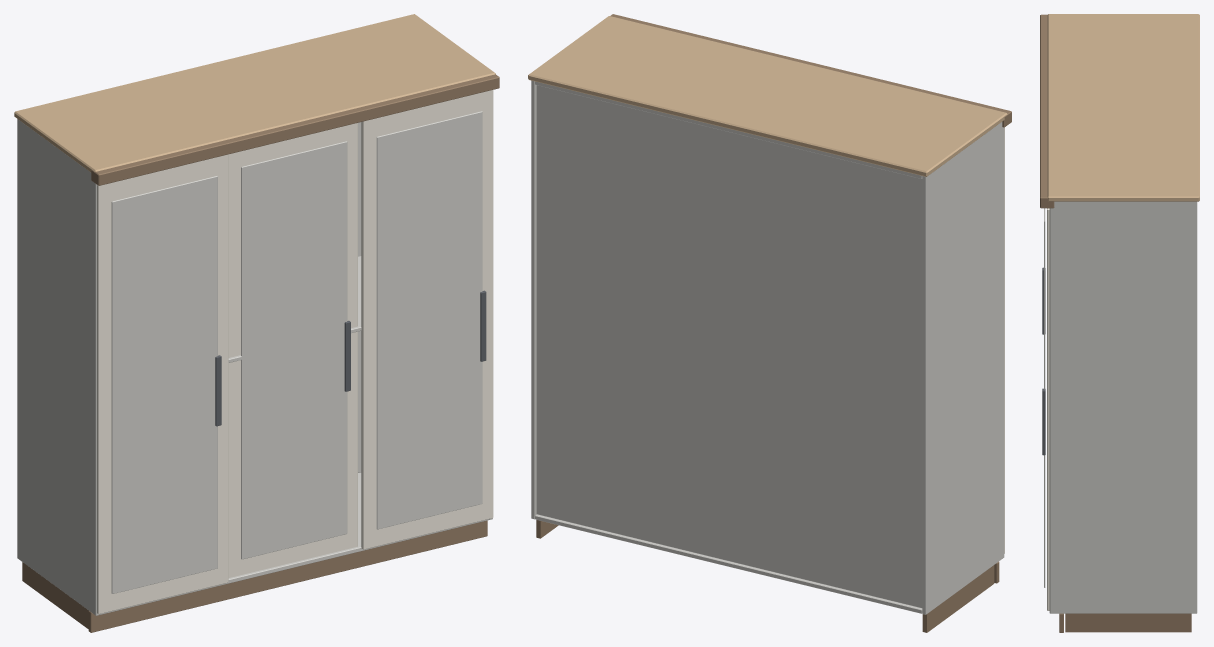
The model's file is wardrobe.glb.
3 renders of one model, left to right at view 1: azimuth 30°, elevation 25°; view 2: azimuth 150°, elevation 25°; view 3: azimuth 270°, elevation 25°, orthographic. The views are drawn at different scales.
Visible parts, largest first — view 1: WL_38804; view 2: WL_38804; view 3: WL_38804.
Boxes of the visible parts, x1,y1,x2,y2 form: WL_38804: [14, 14, 499, 632]; WL_38804: [528, 14, 1011, 632]; WL_38804: [1040, 14, 1199, 632].
Bounding box in the file's own units: 1.82 × 2.03 × 0.67.
